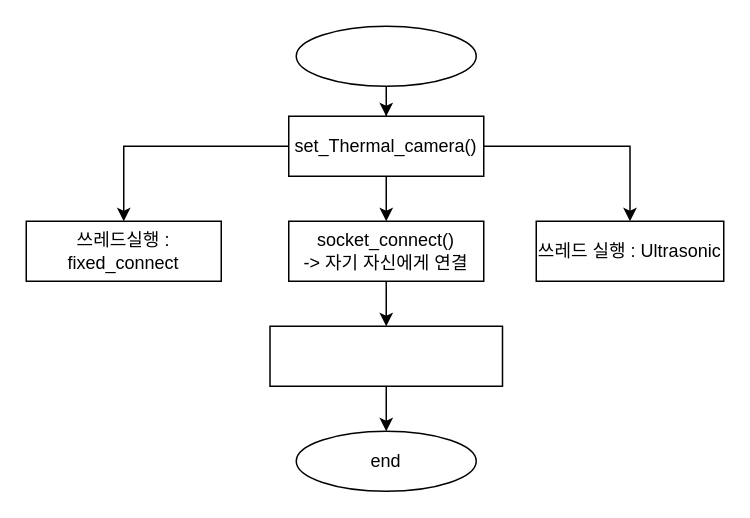
The diagram is 750 pixels wide and 518 high, and some of its shapes have lost their labels. Each missing label, with the centre of its shape:
fixed_temp_process(argv1): point 385,355
start: point 385,55
